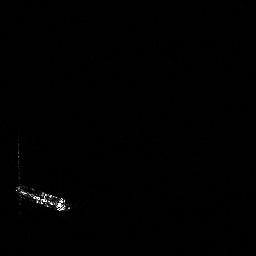ship: (10, 180, 76, 217)
